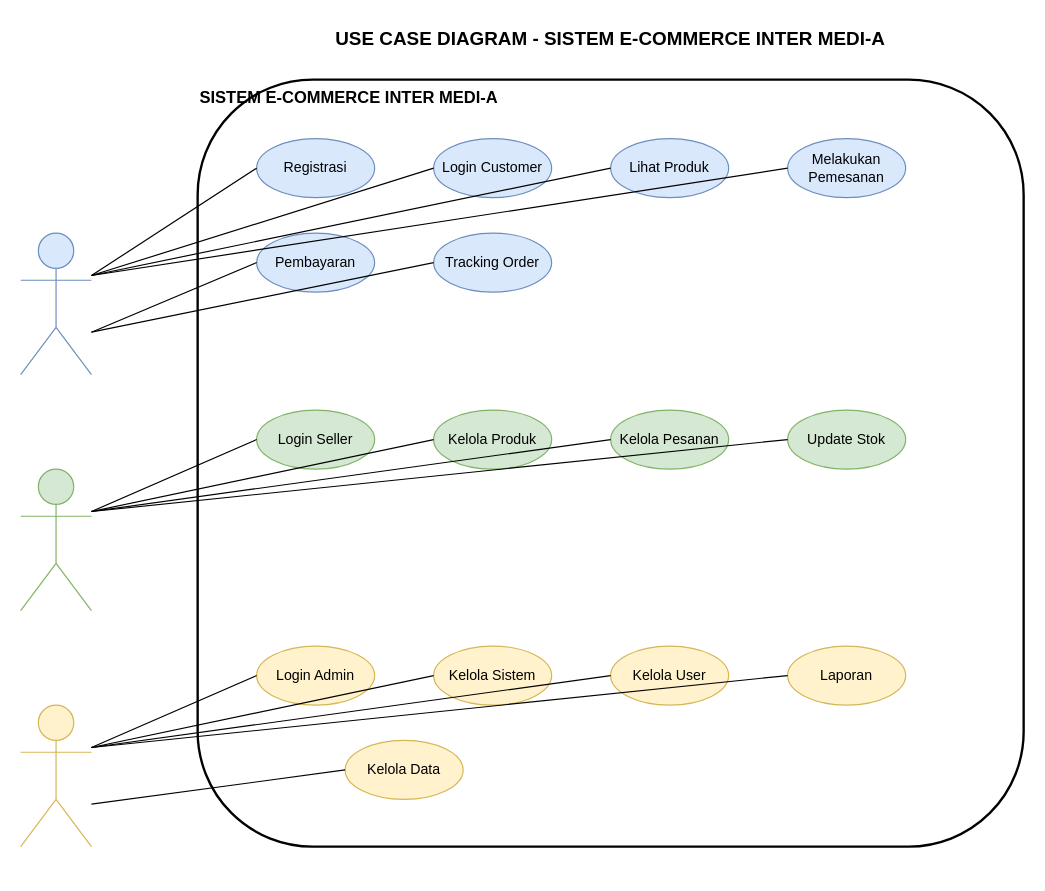
This 1045x891 diagram has some shape labels left out. Here are the shapes that lost their labels. From the top down, the centre of each, then its label:
(55,303): Customer
(55,539): Seller
(55,775): Admin
